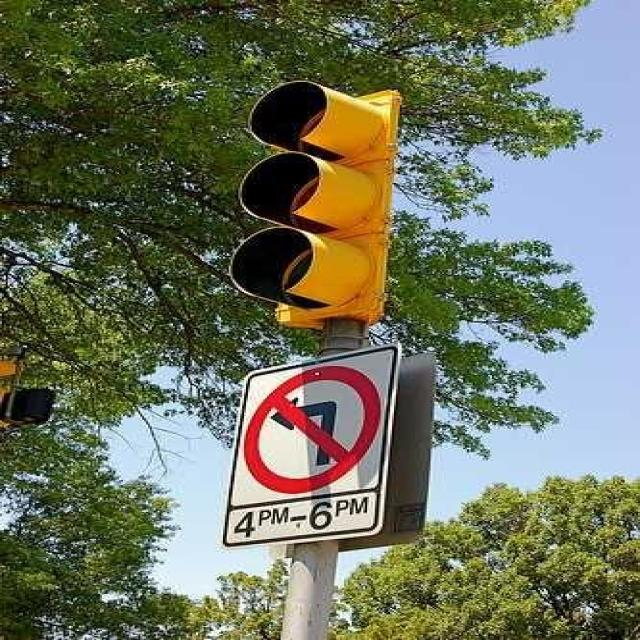Traffic Light -Off-: (235, 81, 399, 341)
